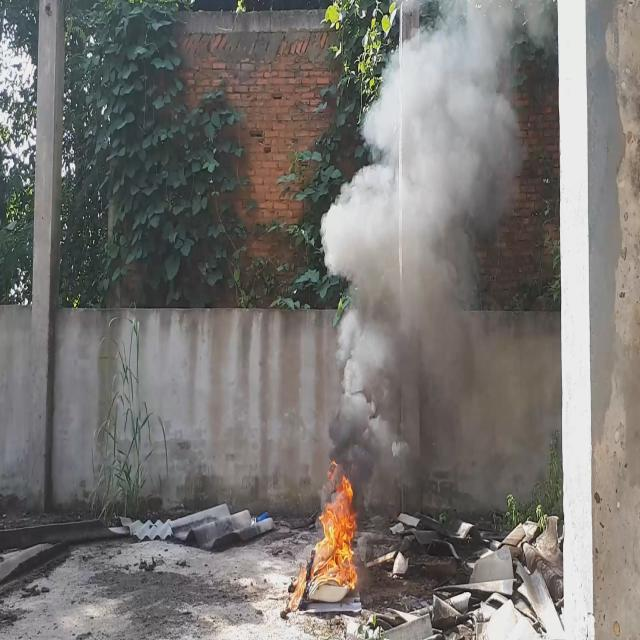Fire: (310, 458, 358, 584)
Smoke: (320, 0, 524, 525)
